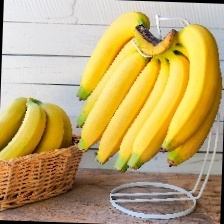banana: (44, 45, 219, 210)
